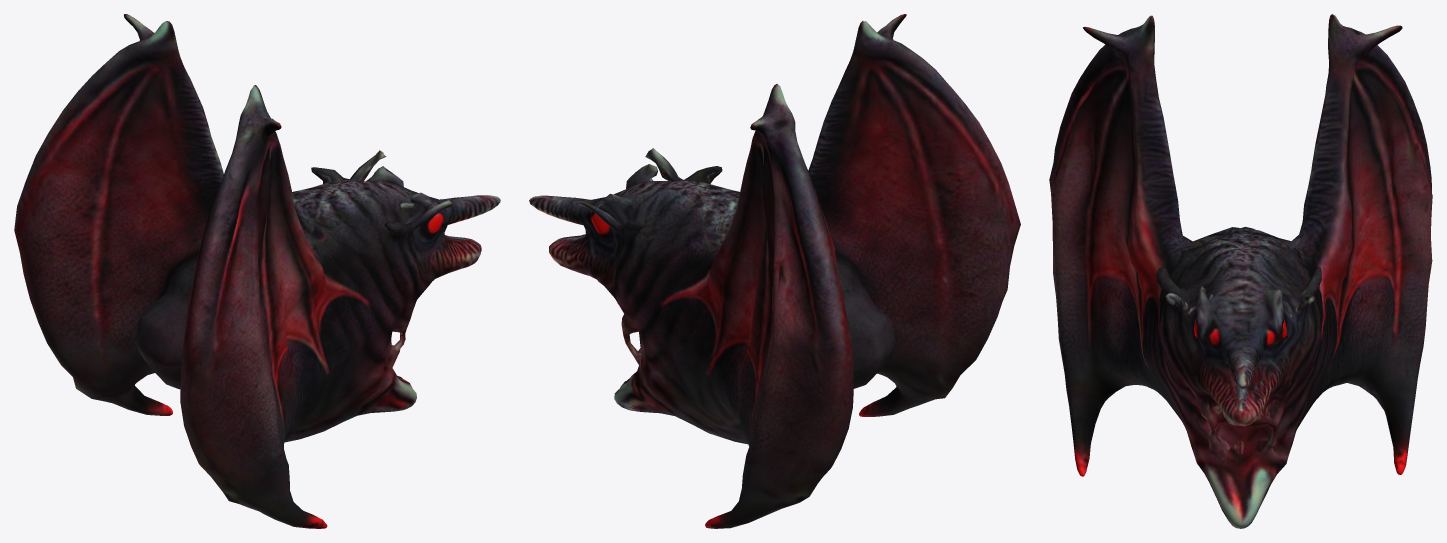
Rendered from 19436880e4dc_17d5d9dc93f0_Terrifying_and_Horr.glb.
3 views of the same model, side by side, from view 1: azimuth 30°, elevation 25°; view 2: azimuth 150°, elevation 25°; view 3: azimuth 270°, elevation 25° (orthographic). The views are drawn at different scales.
Parts seen in each view (by area): view 1: mesh; view 2: mesh; view 3: mesh.
Part boxes in pixels (x1=…): mesh: x1=14, y1=14, x2=500, y2=528; mesh: x1=529, y1=14, x2=1020, y2=528; mesh: x1=1049, y1=14, x2=1432, y2=528.
Bounding box in the file's own units: 0.9668 × 0.9889 × 0.7748.
Materials: 1 (1 with a texture image).
